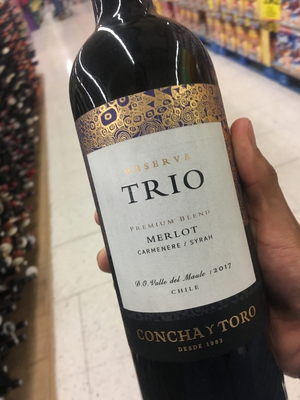trio merlot: (63, 25, 278, 400)
